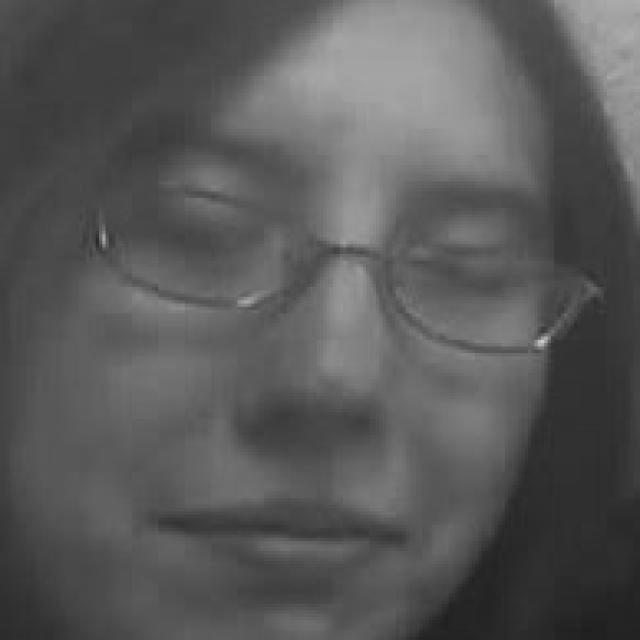real: (15, 14, 582, 625), (120, 144, 532, 394)
